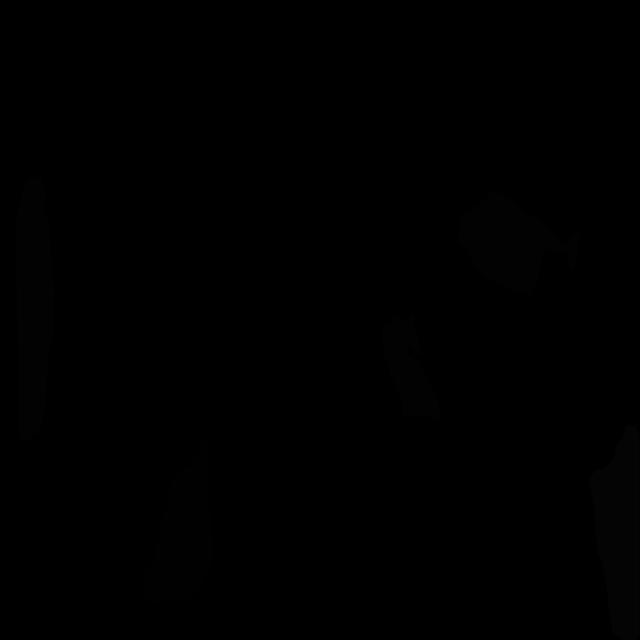cardboard: (459, 191, 582, 296), (16, 176, 54, 442), (382, 314, 441, 420)
rigid_plastic: (141, 434, 214, 605)
soft_plastic: (589, 425, 640, 640)
